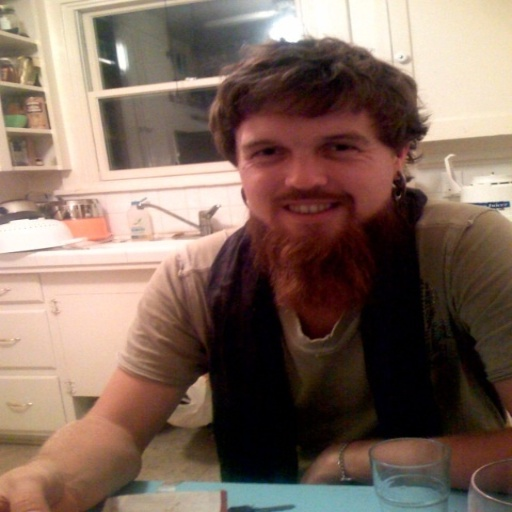hand: (0, 465, 75, 511), (297, 441, 347, 487)
